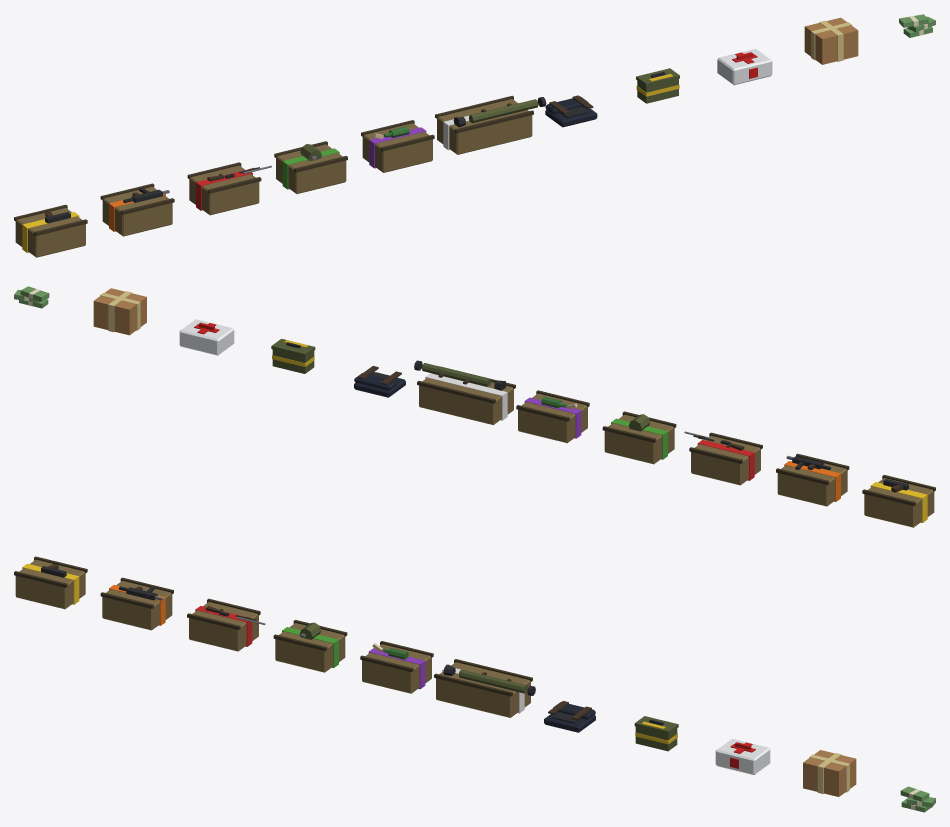
Rendered from pickups.glb.
The picture shows the model from 3 angles, top to bottom: view 1: azimuth 30°, elevation 25°; view 2: azimuth 150°, elevation 25°; view 3: azimuth 330°, elevation 25°; orthographic projection.
Parts seen in each view (by area): view 1: crate_rocket_body, crate_shotgun_body, crate_pistol_body, crate_smg_body, crate_molotov_body, crate_grenade_body, package_box, health_kit_box, crate_rocket_gun_tube, ammo_box_body; view 2: crate_rocket_body, crate_shotgun_body, crate_grenade_body, crate_molotov_body, crate_pistol_body, crate_smg_body, package_box, health_kit_box, crate_rocket_gun_tube, ammo_box_body, crate_rocket_stripe; view 3: crate_rocket_body, crate_shotgun_body, crate_pistol_body, crate_smg_body, crate_grenade_body, crate_molotov_body, package_box, health_kit_box, crate_rocket_gun_tube, ammo_box_body.
Boxes of the visible parts, x1,y1,x2,y2 form: crate_rocket_body: [437, 99, 532, 154]; crate_shotgun_body: [189, 165, 259, 215]; crate_pistol_body: [15, 208, 85, 257]; crate_smg_body: [102, 186, 172, 236]; crate_molotov_body: [362, 123, 432, 172]; crate_grenade_body: [276, 144, 346, 193]; package_box: [804, 17, 858, 64]; health_kit_box: [717, 48, 772, 85]; crate_rocket_gun_tube: [469, 99, 538, 123]; ammo_box_body: [637, 79, 678, 103]; crate_rocket_body: [419, 373, 513, 424]; crate_shotgun_body: [691, 435, 760, 485]; crate_grenade_body: [604, 414, 674, 464]; crate_molotov_body: [518, 393, 587, 443]; crate_pistol_body: [864, 478, 934, 527]; crate_smg_body: [777, 461, 847, 506]; package_box: [93, 288, 146, 335]; health_kit_box: [179, 319, 234, 355]; crate_rocket_gun_tube: [422, 363, 491, 386]; ammo_box_body: [272, 349, 314, 373]; crate_rocket_stripe: [425, 373, 507, 420]; crate_rocket_body: [436, 662, 530, 717]; crate_shotgun_body: [189, 602, 258, 651]; crate_pistol_body: [15, 559, 85, 609]; crate_smg_body: [102, 580, 172, 630]; crate_grenade_body: [275, 623, 345, 672]; crate_molotov_body: [362, 644, 431, 693]; package_box: [803, 750, 856, 796]; health_kit_box: [715, 738, 770, 774]; crate_rocket_gun_tube: [458, 669, 527, 693]; ammo_box_body: [635, 726, 677, 751].
Bounding box in the file's own units: 12.59 × 0.456 × 0.52.
